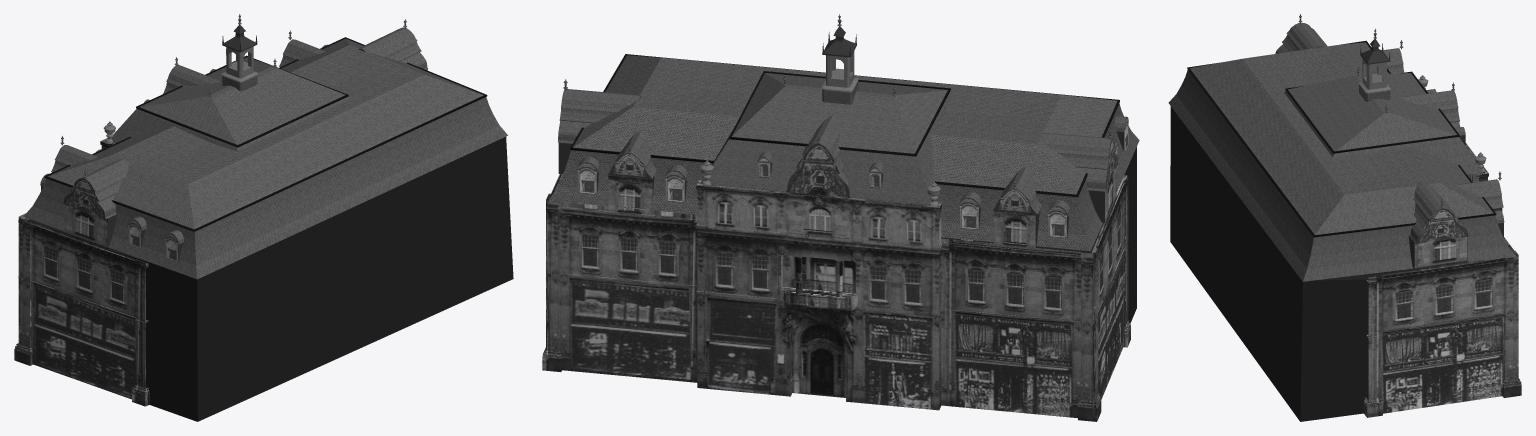
Rendered from JRP_OLD_Concordia.FBX.
3 views of the same model, side by side, from view 1: azimuth 30°, elevation 25°; view 2: azimuth 150°, elevation 25°; view 3: azimuth 270°, elevation 25° (orthographic). The views are drawn at different scales.
Parts seen in each view (by area): view 1: B_Werth_46_48_051, Line005, B_Werth_46_48_50_Side_Right001, Line006, Rectangle002, Group001, Group002, Rectangle001, Plane012, Plane004, Plane011, Plane027 (+2 smaller); view 2: B_Werth_46_48_50_front001, Line005, Line006, B_Werth_46_48_50_Side_Right001, Group002, Group001, upper_W_B, B_Werth_46_48_051, OLD_Concordia, Rectangle002, Rectangle001, Plane011 (+8 smaller); view 3: Line005, B_Werth_46_48_051, B_Werth_46_48_50_Side_Left001, Line006, Group002, Rectangle002, Plane020, Plane011, Group001, Rectangle001, Plane027, Plane004 (+2 smaller).
Boxes of the visible parts, x1=… form: B_Werth_46_48_051: x1=23, y1=136, x2=513, y2=421; Line005: x1=23, y1=38, x2=507, y2=279; B_Werth_46_48_50_Side_Right001: x1=15, y1=204, x2=149, y2=406; Line006: x1=111, y1=57, x2=349, y2=151; Rectangle002: x1=44, y1=37, x2=487, y2=231; Group001: x1=79, y1=158, x2=128, y2=245; Group002: x1=358, y1=27, x2=427, y2=70; Rectangle001: x1=136, y1=55, x2=348, y2=147; Plane012: x1=63, y1=178, x2=105, y2=219; Plane004: x1=221, y1=46, x2=258, y2=81; Plane011: x1=163, y1=65, x2=219, y2=93; Plane027: x1=279, y1=39, x2=325, y2=66; B_Werth_46_48_50_front001: x1=542, y1=175, x2=1100, y2=421; Line005: x1=549, y1=55, x2=1139, y2=251; Line006: x1=701, y1=73, x2=952, y2=204; B_Werth_46_48_50_Side_Right001: x1=1091, y1=167, x2=1130, y2=420; Group002: x1=558, y1=89, x2=641, y2=173; Group001: x1=1040, y1=132, x2=1112, y2=222; upper_W_B: x1=786, y1=143, x2=850, y2=197; B_Werth_46_48_051: x1=554, y1=147, x2=1136, y2=392; OLD_Concordia: x1=608, y1=81, x2=1036, y2=214; Rectangle002: x1=570, y1=54, x2=1119, y2=197; Rectangle001: x1=729, y1=71, x2=950, y2=156; Plane011: x1=790, y1=114, x2=851, y2=197; Line005: x1=1168, y1=42, x2=1514, y2=281; B_Werth_46_48_051: x1=1170, y1=106, x2=1513, y2=421; B_Werth_46_48_50_Side_Left001: x1=1363, y1=236, x2=1521, y2=417; Line006: x1=1284, y1=73, x2=1483, y2=174; Group002: x1=1408, y1=182, x2=1467, y2=268; Rectangle002: x1=1187, y1=40, x2=1496, y2=237; Plane020: x1=1416, y1=208, x2=1468, y2=244; Plane011: x1=1399, y1=90, x2=1460, y2=127; Group001: x1=1275, y1=22, x2=1327, y2=53; Rectangle001: x1=1285, y1=71, x2=1459, y2=153; Plane027: x1=1457, y1=179, x2=1503, y2=208; Plane004: x1=1358, y1=58, x2=1390, y2=92.
Bounding box in the file's own units: 4696 × 2880 × 3256.
11 materials, 8 textured.
